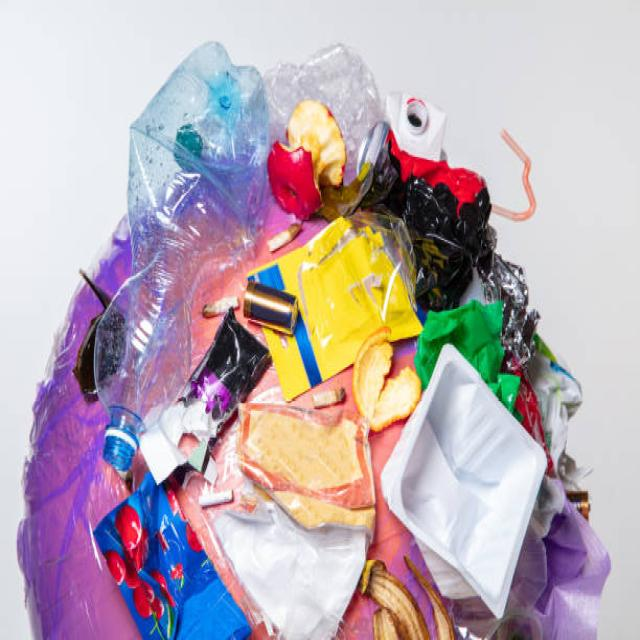plastic: (89, 66, 253, 445), (415, 345, 537, 593)
